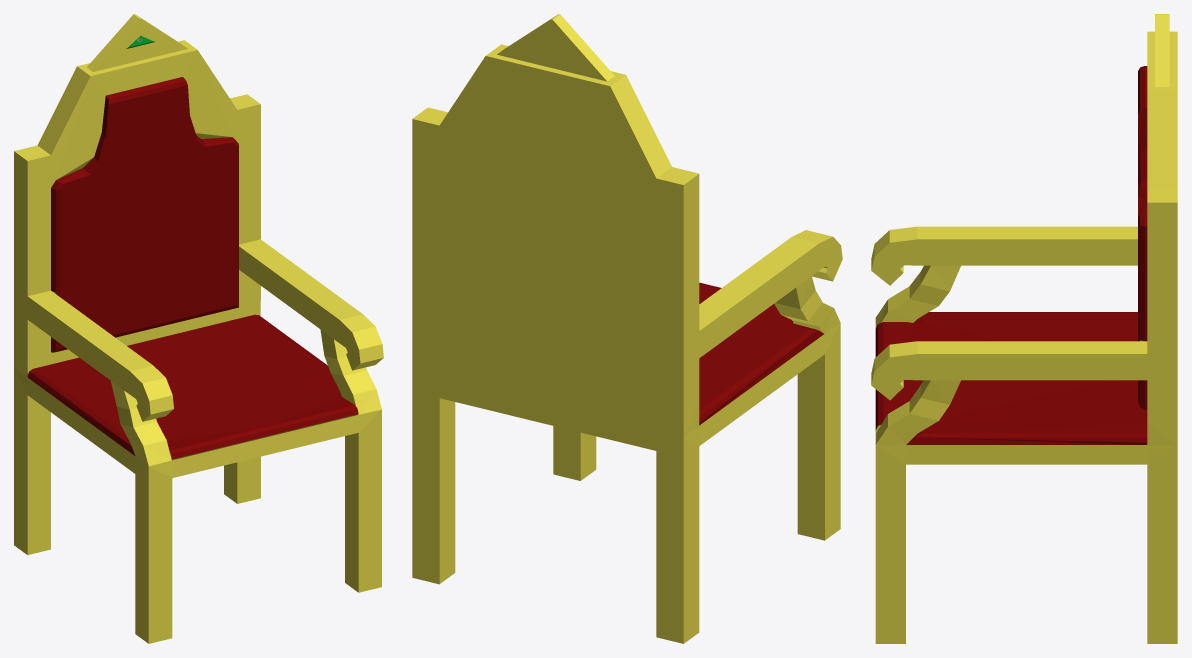
The model's file is coorva_tron.fbx.
3 views of the same model, side by side, from view 1: azimuth 30°, elevation 25°; view 2: azimuth 150°, elevation 25°; view 3: azimuth 270°, elevation 25° (orthographic). The views are drawn at different scales.
Visible parts, largest first — view 1: Cube; view 2: Cube; view 3: Cube.
Part boxes in pixels (box(x1,y1,x2,y2)): Cube: box(14, 14, 383, 643); Cube: box(412, 14, 842, 643); Cube: box(871, 14, 1177, 643).
Bounding box in the file's own units: 56.33 × 115 × 55.61.
